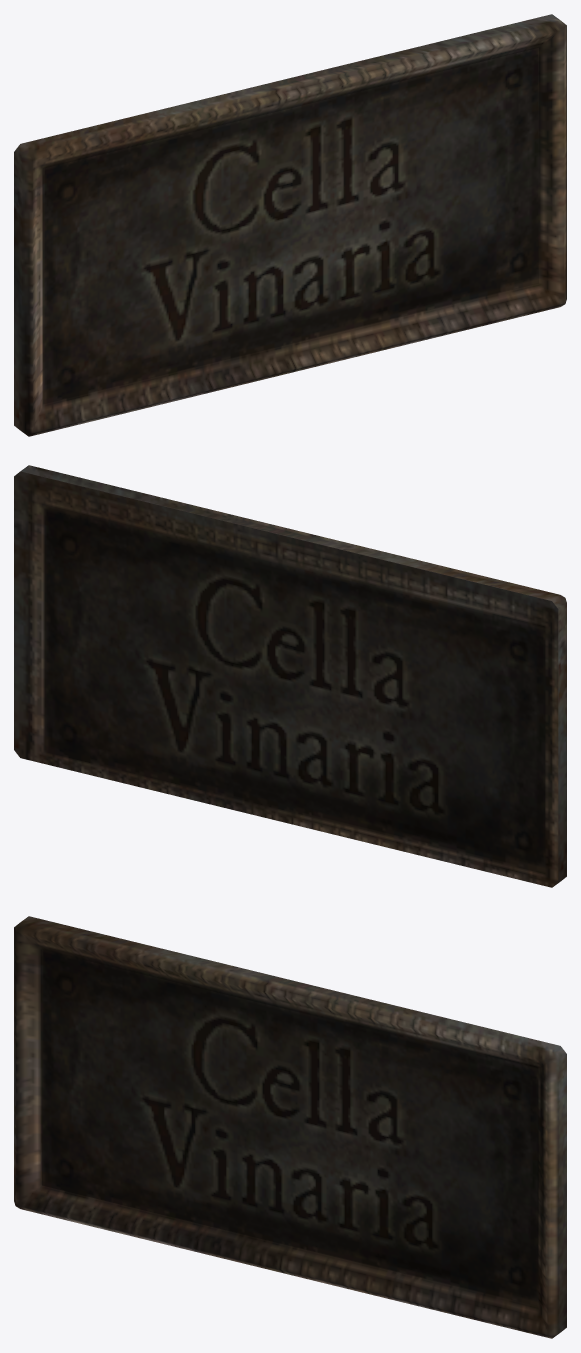
Rendered from sign_winecellar.dae.
3 views of the same model, one above another, from view 1: azimuth 30°, elevation 25°; view 2: azimuth 150°, elevation 25°; view 3: azimuth 330°, elevation 25° (orthographic).
Parts seen in each view (by area): view 1: Box02; view 2: Box02; view 3: Box02.
Part boxes in pixels (x1=…): Box02: x1=14, y1=14, x2=566, y2=436; Box02: x1=14, y1=465, x2=566, y2=887; Box02: x1=14, y1=916, x2=566, y2=1338.
Size of the model in its own units: 0.6037 by 0.0235 by 0.3038.
